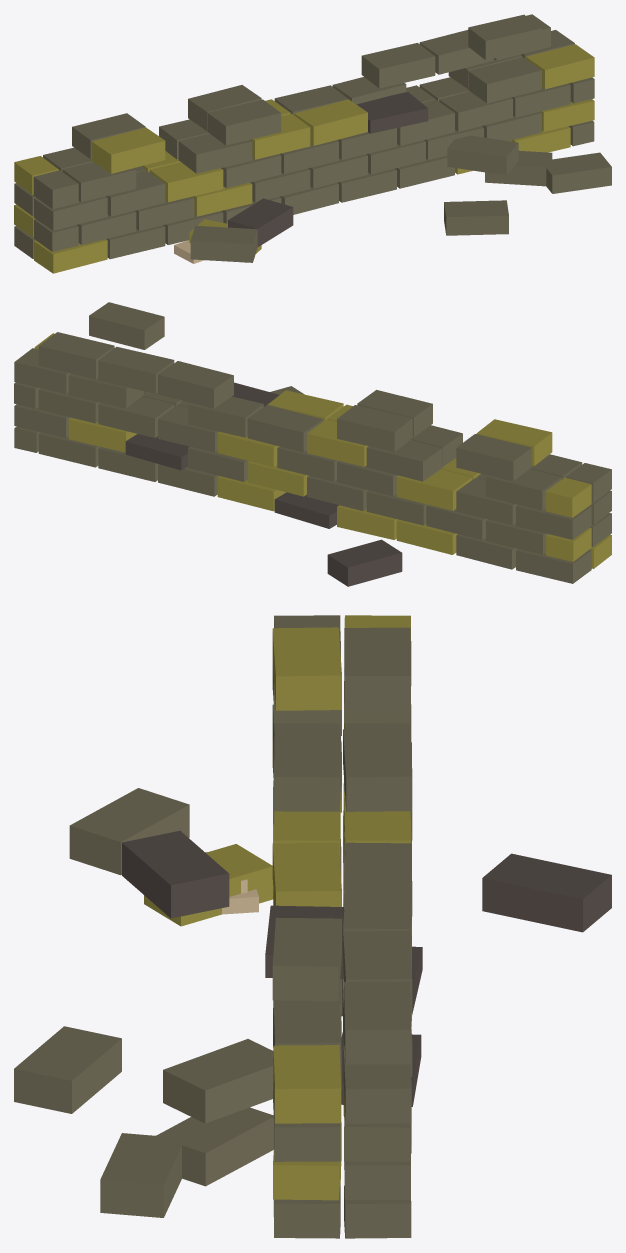
The model's file is SM_MuroSacos_v2_Irregular_e1_Danado_LOD0.fbx.
3 renders of one model, top to bottom at view 1: azimuth 30°, elevation 25°; view 2: azimuth 150°, elevation 25°; view 3: azimuth 270°, elevation 25°, orthographic. The views are drawn at different scales.
Parts seen in each view (by area): view 1: SM_bloques.muro_sacos_estados_v9_LOD0; view 2: SM_bloques.muro_sacos_estados_v9_LOD0; view 3: SM_bloques.muro_sacos_estados_v9_LOD0.
Part boxes in pixels (left/top/right/bottom): SM_bloques.muro_sacos_estados_v9_LOD0: left=14, top=14, right=611, bottom=273; SM_bloques.muro_sacos_estados_v9_LOD0: left=14, top=302, right=611, bottom=586; SM_bloques.muro_sacos_estados_v9_LOD0: left=14, top=615, right=611, bottom=1238.
Bounding box in the file's own units: 7.97 × 1.78 × 4.25.
